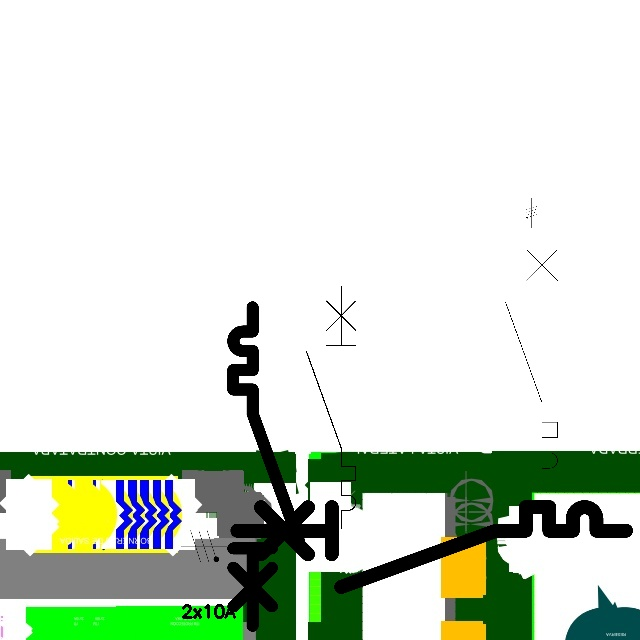interruptor_termomagnetico: (227, 497, 636, 597), (225, 299, 307, 634), (499, 228, 564, 494), (300, 280, 362, 535)
